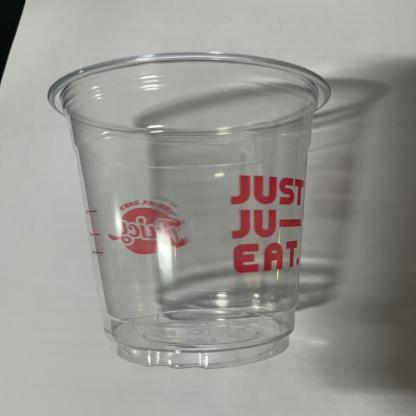Plastic Cup: (42, 49, 336, 370)
